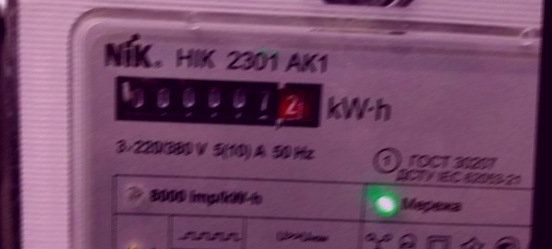0: (128, 84, 143, 109), (205, 85, 220, 109), (230, 85, 244, 109), (154, 85, 168, 108), (180, 85, 194, 108)
2: (283, 92, 297, 116)
7: (256, 87, 269, 111)
screen: (101, 62, 331, 140)
